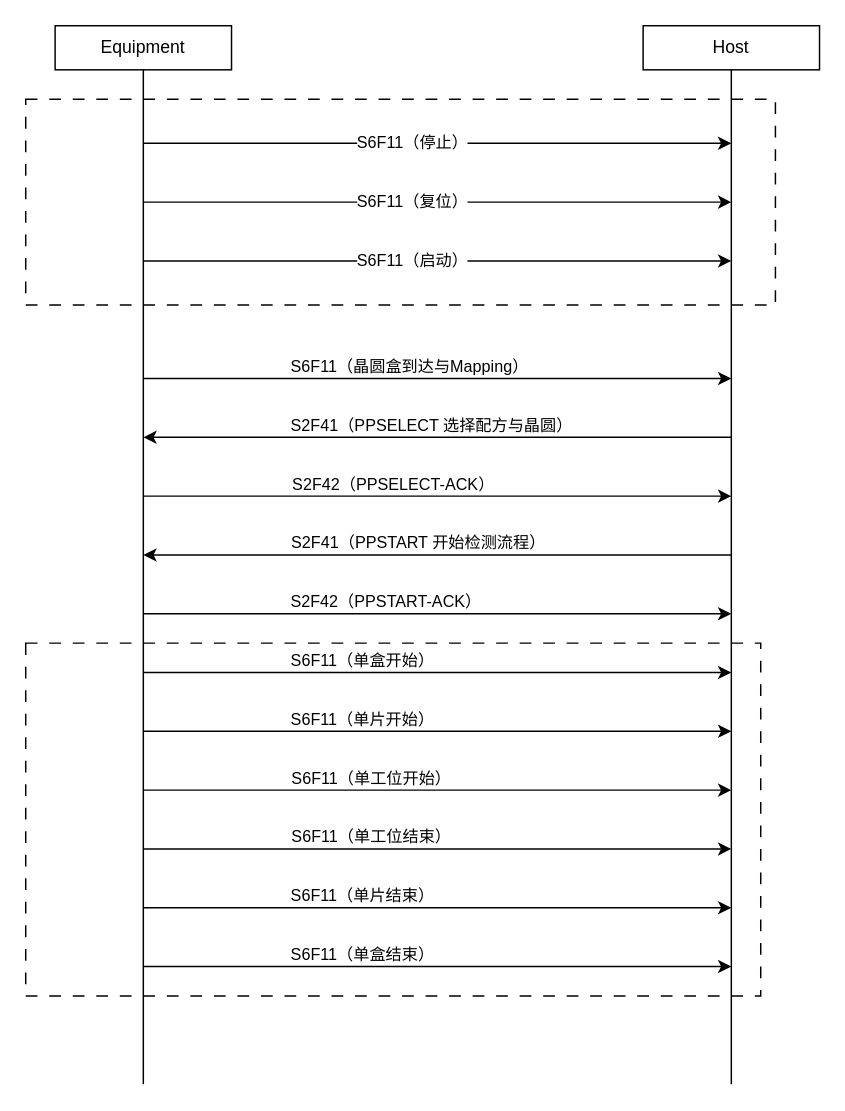
Some shapes in this 845 by 1111 pixel diagram are drawn without their labels. Each missing label, with the box of its shape:
Loop: (24, 642, 761, 996)
初始化流程: (24, 98, 775, 305)
